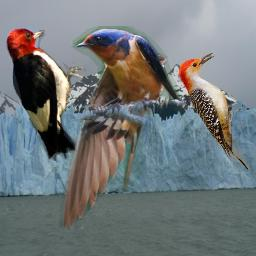Swallow: (59, 26, 187, 230)
Woodpecker: (5, 27, 87, 163), (178, 52, 251, 173)
